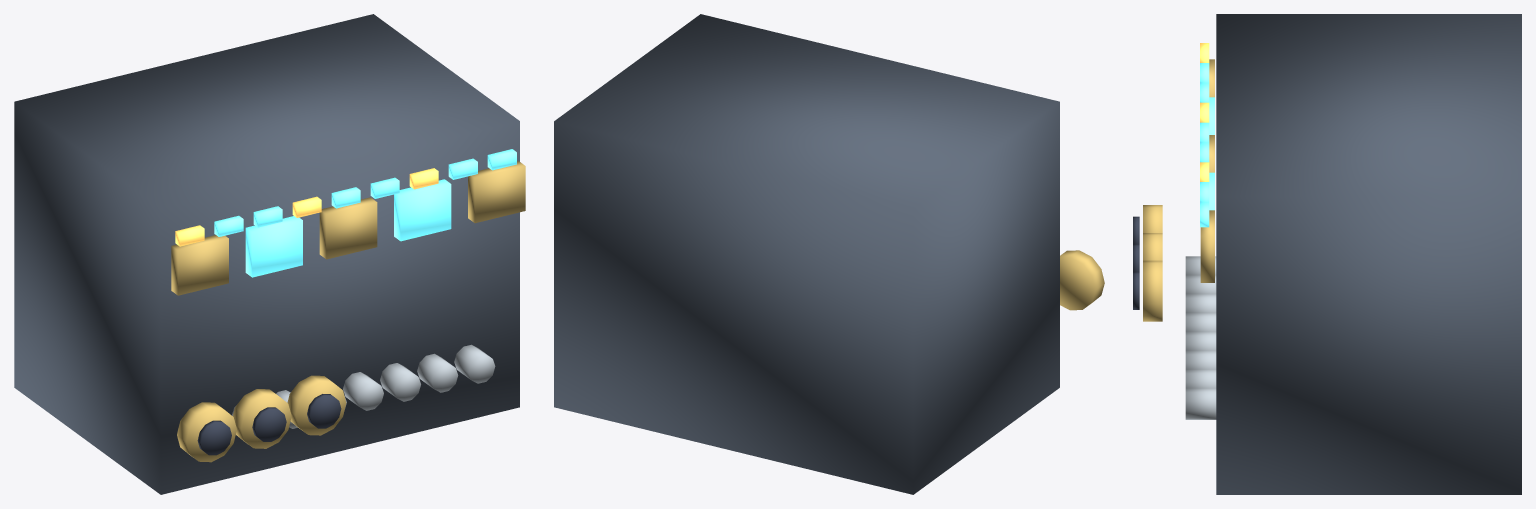
The model's file is 37_L86_ActiveVibrationDampingController.glb.
3 renders of one model, left to right at view 1: azimuth 30°, elevation 25°; view 2: azimuth 150°, elevation 25°; view 3: azimuth 270°, elevation 25°, orthographic. The views are drawn at different scales.
Visible parts, largest first — view 1: L86_ActiveVibrationDampingCon_Part_0000, L86_ActiveVibrationDampingCon_Part_0002, L86_ActiveVibrationDampingCon_Part_0001, L86_ActiveVibrationDampingCon_Part_0003, L86_ActiveVibrationDampingCon_Part_0005, L86_ActiveVibrationDampingCon_Part_0009, L86_ActiveVibrationDampingCon_Part_0007, L86_ActiveVibrationDampingCon_Part_0004, L86_ActiveVibrationDampingCon_Part_0006, L86_ActiveVibrationDampingCon_Part_0010, L86_ActiveVibrationDampingCon_Part_0008; view 2: L86_ActiveVibrationDampingCon_Part_0000, L86_ActiveVibrationDampingCon_Part_0005; view 3: L86_ActiveVibrationDampingCon_Part_0000, L86_ActiveVibrationDampingCon_Part_0003, L86_ActiveVibrationDampingCon_Part_0002, L86_ActiveVibrationDampingCon_Part_0001, L86_ActiveVibrationDampingCon_Part_0009, L86_ActiveVibrationDampingCon_Part_0004, L86_ActiveVibrationDampingCon_Part_0005, L86_ActiveVibrationDampingCon_Part_0007.
Boxes of the visible parts, left/top/right/bottom form: L86_ActiveVibrationDampingCon_Part_0000: left=14, top=14, right=519, bottom=494; L86_ActiveVibrationDampingCon_Part_0002: left=214, top=149, right=516, bottom=277; L86_ActiveVibrationDampingCon_Part_0001: left=171, top=161, right=525, bottom=295; L86_ActiveVibrationDampingCon_Part_0003: left=232, top=344, right=495, bottom=428; L86_ActiveVibrationDampingCon_Part_0005: left=177, top=402, right=236, bottom=462; L86_ActiveVibrationDampingCon_Part_0009: left=287, top=375, right=346, bottom=435; L86_ActiveVibrationDampingCon_Part_0007: left=233, top=389, right=291, bottom=448; L86_ActiveVibrationDampingCon_Part_0004: left=175, top=168, right=438, bottom=246; L86_ActiveVibrationDampingCon_Part_0006: left=197, top=420, right=231, bottom=455; L86_ActiveVibrationDampingCon_Part_0010: left=307, top=394, right=341, bottom=428; L86_ActiveVibrationDampingCon_Part_0008: left=252, top=407, right=286, bottom=441; L86_ActiveVibrationDampingCon_Part_0000: left=554, top=14, right=1059, bottom=494; L86_ActiveVibrationDampingCon_Part_0005: left=1060, top=250, right=1104, bottom=310; L86_ActiveVibrationDampingCon_Part_0000: left=1216, top=14, right=1521, bottom=494; L86_ActiveVibrationDampingCon_Part_0003: left=1185, top=256, right=1216, bottom=419; L86_ActiveVibrationDampingCon_Part_0002: left=1200, top=63, right=1214, bottom=227; L86_ActiveVibrationDampingCon_Part_0001: left=1200, top=59, right=1214, bottom=282; L86_ActiveVibrationDampingCon_Part_0009: left=1143, top=260, right=1162, bottom=321; L86_ActiveVibrationDampingCon_Part_0004: left=1200, top=43, right=1209, bottom=181; L86_ActiveVibrationDampingCon_Part_0005: left=1143, top=205, right=1162, bottom=232; L86_ActiveVibrationDampingCon_Part_0007: left=1143, top=233, right=1162, bottom=260.
Bounding box in the file's own units: 0.945 × 0.7 × 0.827.
